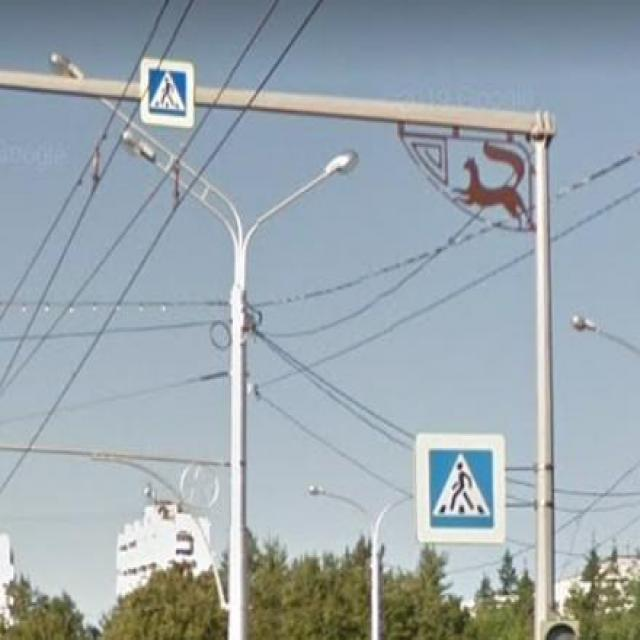crosswalk: (410, 426, 511, 550), (135, 54, 198, 132)
